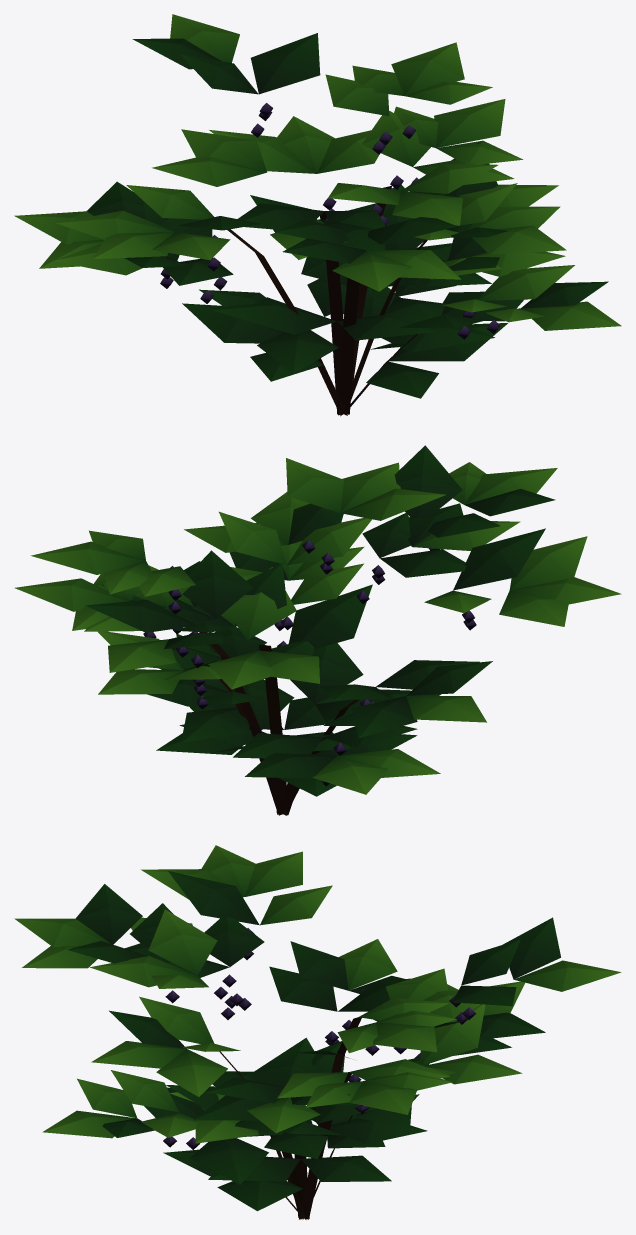
Rendered from salal-a.glb.
3 renders of one model, top to bottom at view 1: azimuth 30°, elevation 25°; view 2: azimuth 150°, elevation 25°; view 3: azimuth 270°, elevation 25°, orthographic. The views are drawn at different scales.
Visible parts, largest first — view 1: salal_a; view 2: salal_a; view 3: salal_a.
Boxes of the visible parts, bbox=[...] form: salal_a: bbox=[14, 14, 621, 416]; salal_a: bbox=[15, 445, 621, 815]; salal_a: bbox=[14, 845, 621, 1219].
Size of the model in its own units: 1.49 by 0.8096 by 1.66.
